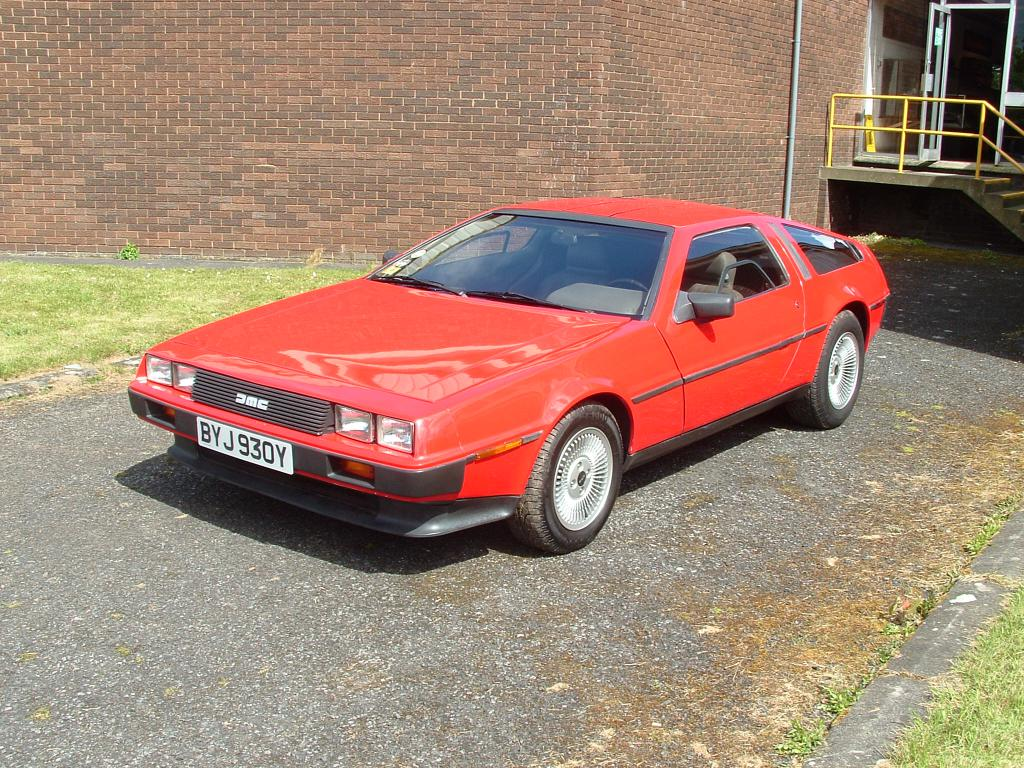Car: (127, 193, 892, 554)
